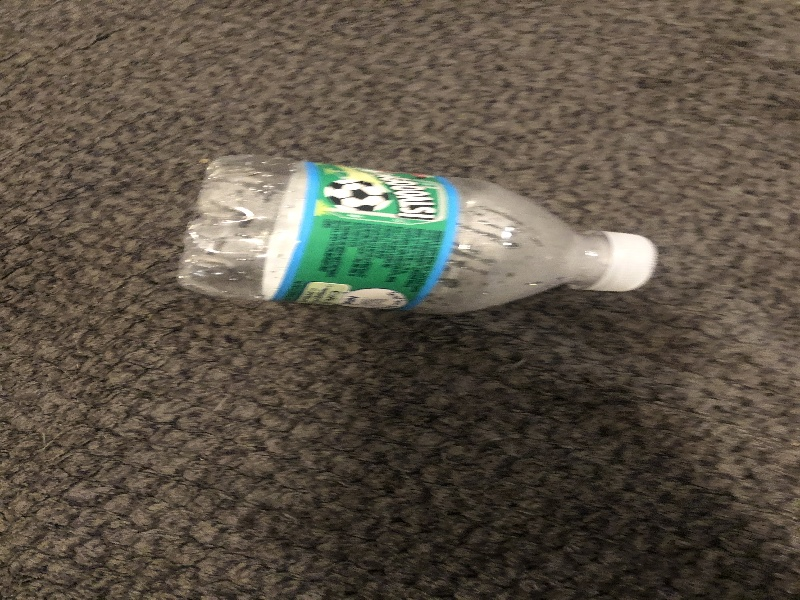plastic: (177, 145, 663, 321)
